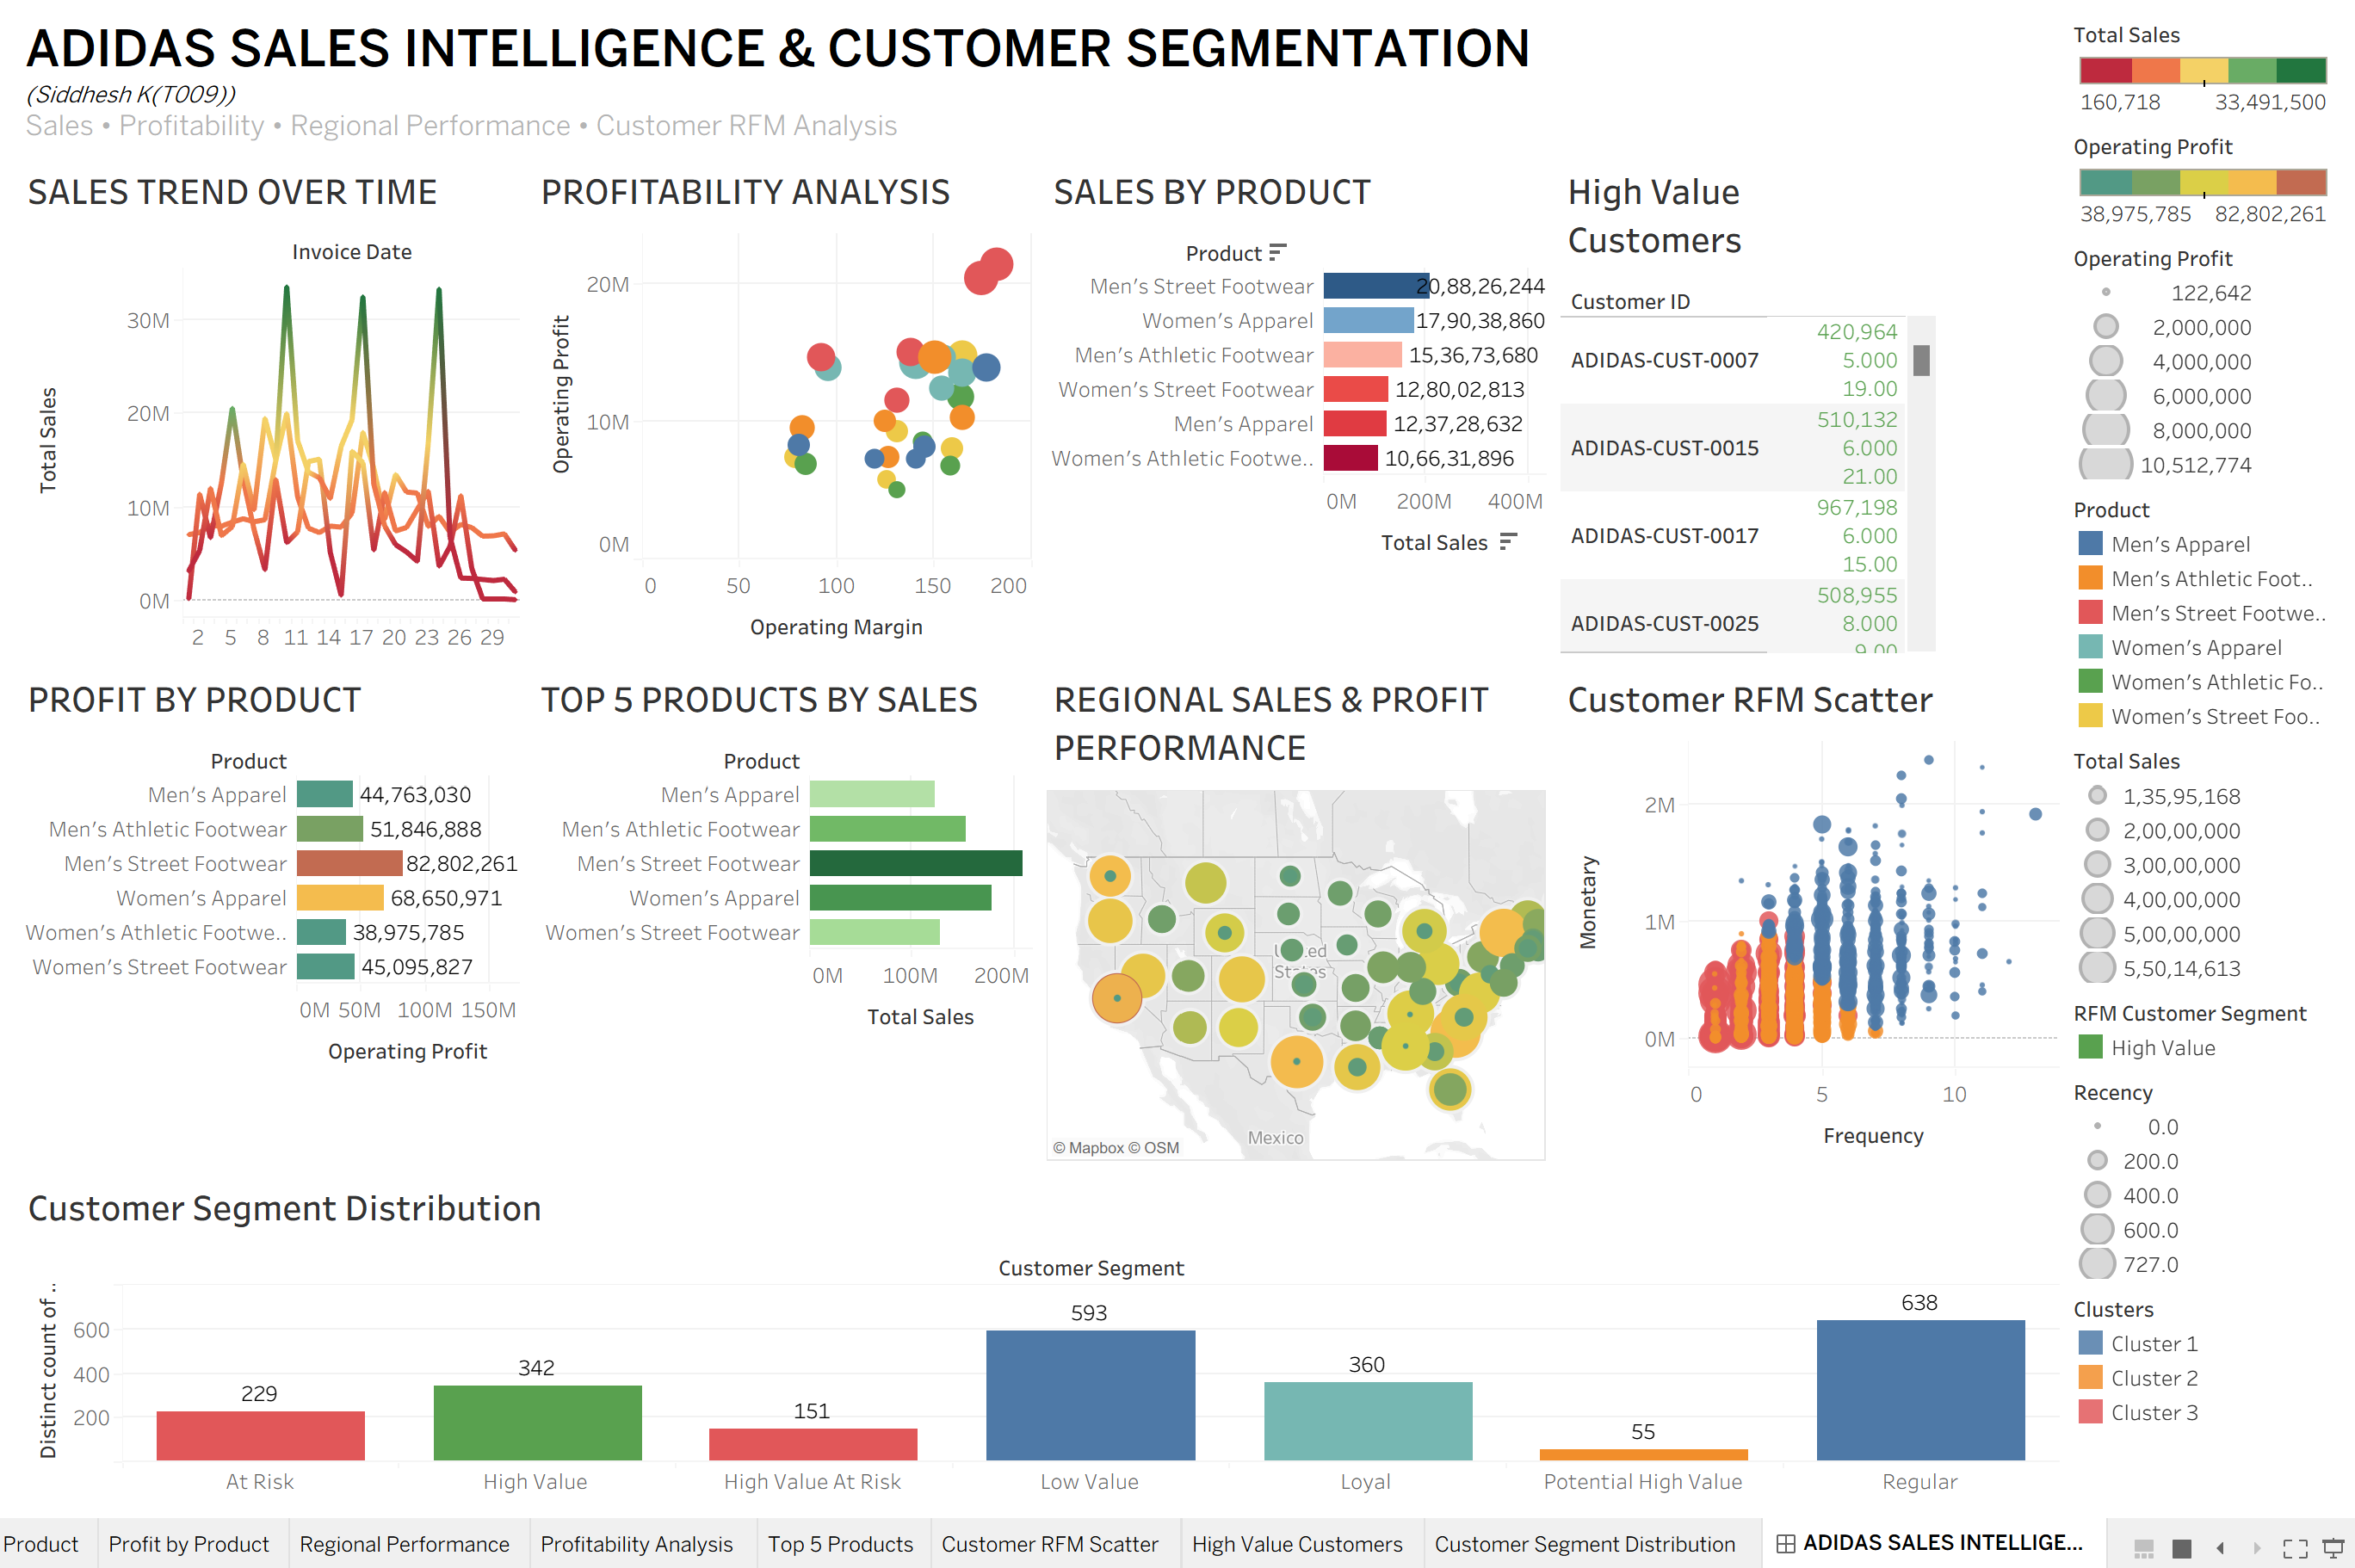

The dashboard page shown, as its layout file describes it:
{"tool":"tableau","page":{"name":"ADIDAS SALES INTELLIGENCE & CUSTOMER SEGMENTATION","canvas":[1000,1000],"units":"permille","ordinal":0},"visuals":[{"type":"title","box":[6.9,11,847.9,111.3]},{"type":"legend","title":"Sales Trend","param":"[federated.1ev1soo1bj0anw1bjb95l1iriazm].[sum:Total Sales:qk]","box":[854.8,11,138.3,89.3]},{"type":"legend","title":"Profit by Product","param":"[federated.1ev1soo1bj0anw1bjb95l1iriazm].[sum:Operating Profit:qk]","box":[854.8,100.3,138.3,89.3]},{"type":"worksheet","title":"Sales Trend","mark":"Line","rows":["Total Sales"],"cols":["Invoice Date"],"box":[6.9,122.2,211.9,306.8]},{"type":"worksheet","title":"Profitability Analysis","mark":"Circle","rows":["Operating Profit"],"cols":["Operating Margin"],"box":[218.8,122.2,212,306.8]},{"type":"worksheet","title":"Sales by Product","mark":"Bar","rows":["Product"],"cols":["Total Sales"],"box":[430.8,122.2,211.9,306.8]},{"type":"worksheet","title":"High Value Customers","mark":"Automatic","rows":["Customer ID"],"box":[642.7,122.2,212.1,306.8]},{"type":"legend","title":"Regional Performance","param":"[federated.1ev1soo1bj0anw1bjb95l1iriazm].[sum:Operating Profit:qk]","box":[854.8,189.6,138.3,154.5]},{"type":"legend","title":"Profitability Analysis","param":"[federated.1ev1soo1bj0anw1bjb95l1iriazm].[none:Product:nk]","box":[854.8,344.1,138.3,154.5]},{"type":"worksheet","title":"Profit by Product","mark":"Bar","rows":["Product"],"cols":["Operating Profit"],"box":[6.9,429,211.9,307.2]},{"type":"worksheet","title":"Top 5 Products","mark":"Automatic","rows":["Product"],"cols":["Total Sales"],"box":[218.8,429,212,307.2]},{"type":"worksheet","title":"Regional Performance","mark":"Automatic","box":[430.8,429,211.9,307.2]},{"type":"worksheet","title":"Customer RFM Scatter","mark":"Circle","rows":["Calculation_0550906811740168"],"cols":["Calculation_0550906811547655"],"box":[642.7,429,212.1,307.2]},{"type":"legend","title":"Profitability Analysis","param":"[federated.1ev1soo1bj0anw1bjb95l1iriazm].[sum:Total Sales:qk]","box":[854.8,498.6,138.3,154.5]},{"type":"legend","title":"High Value Customers","param":"[federated.1ev1soo1bj0anw1bjb95l1iriazm].[usr:Calculation_0550906812117002:nk]","box":[854.8,653.2,138.3,63.2]},{"type":"legend","title":"Customer RFM Scatter","param":"[federated.1ev1soo1bj0anw1bjb95l1iriazm].[usr:Calculation_0550906811478022:qk]","box":[854.8,716.4,138.3,154.5]},{"type":"worksheet","title":"Customer Segment Distribution","mark":"Bar","rows":["Customer ID"],"cols":["Customer Segment"],"box":[6.9,736.3,847.9,252.8]},{"type":"legend","title":"Customer RFM Scatter","param":"[federated.1ev1soo1bj0anw1bjb95l1iriazm].[none:AdhocCluster:1:ok]","box":[854.8,870.9,138.3,118.1]}]}

Visuals, with their boxes on the dashboard's canvas, which has no fixed pixel size, in thousandths of its width and height (x1, y1, x2, y2). These are canvas units, not pixel positions in the 2355x1568 screenshot, which may show the page scaled, cropped or inside an application window:
title: 7,11,855,122
"Sales Trend" legend: 855,11,993,100
"Profit by Product" legend: 855,100,993,190
"Sales Trend" worksheet (Line marks): 7,122,219,429
"Profitability Analysis" worksheet (Circle marks): 219,122,431,429
"Sales by Product" worksheet (Bar marks): 431,122,643,429
"High Value Customers" worksheet: 643,122,855,429
"Regional Performance" legend: 855,190,993,344
"Profitability Analysis" legend: 855,344,993,499
"Profit by Product" worksheet (Bar marks): 7,429,219,736
"Top 5 Products" worksheet: 219,429,431,736
"Regional Performance" worksheet: 431,429,643,736
"Customer RFM Scatter" worksheet (Circle marks): 643,429,855,736
"Profitability Analysis" legend: 855,499,993,653
"High Value Customers" legend: 855,653,993,716
"Customer RFM Scatter" legend: 855,716,993,871
"Customer Segment Distribution" worksheet (Bar marks): 7,736,855,989
"Customer RFM Scatter" legend: 855,871,993,989
